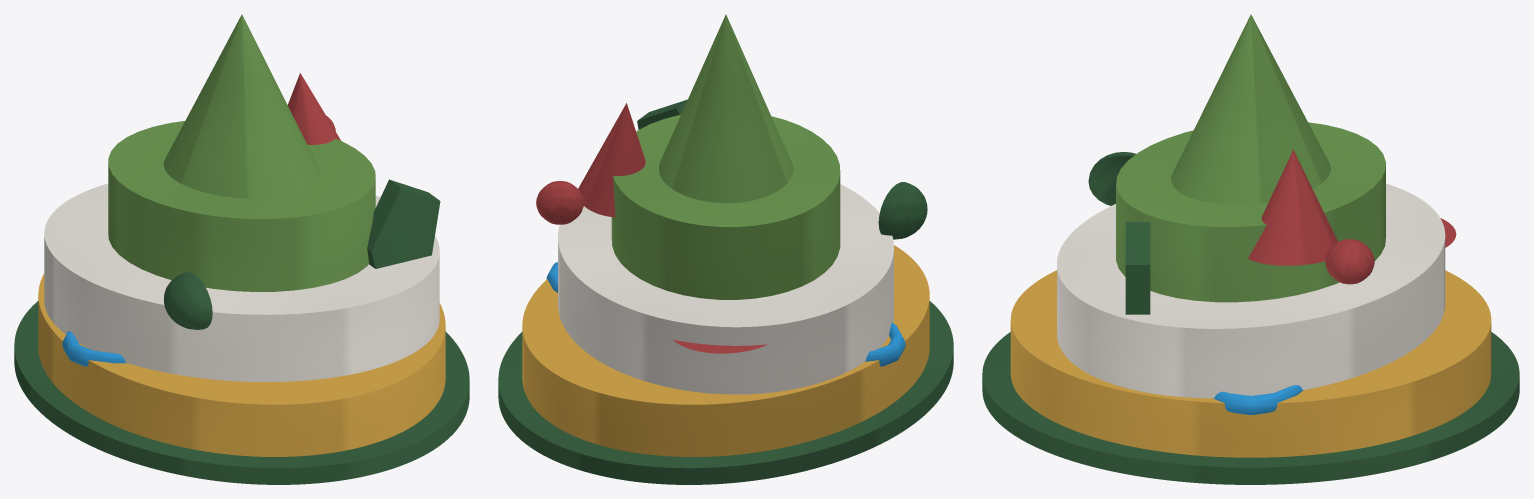
Rendered from 0626_地貌图鉴_喜马拉雅山脉.glb.
3 views of the same model, side by side, from view 1: azimuth 30°, elevation 25°; view 2: azimuth 150°, elevation 25°; view 3: azimuth 270°, elevation 25° (orthographic). The views are drawn at different scales.
Parts seen in each view (by area): view 1: card_0626; view 2: card_0626; view 3: card_0626.
Part boxes in pixels (<box>): card_0626: <box>14,14,469,484</box>; card_0626: <box>498,14,953,484</box>; card_0626: <box>982,14,1519,484</box>.
Size of the model in its own units: 1.07 by 1 by 1.29.
